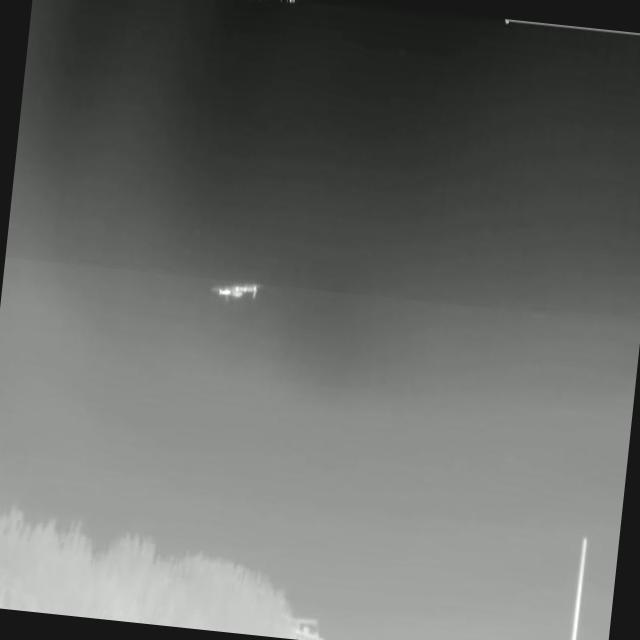DRONE: (202, 267, 268, 313)
